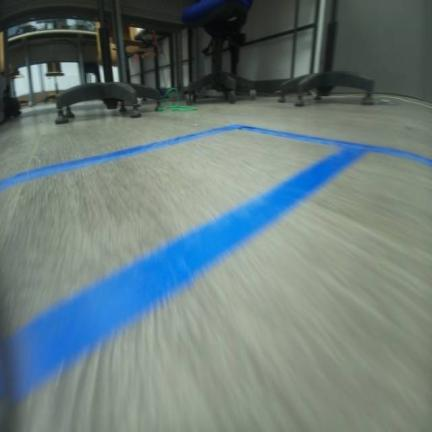place: (0, 140, 431, 431), (0, 122, 378, 417)
